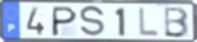1: (114, 6, 127, 38)
4: (25, 6, 47, 37)
B: (163, 6, 191, 39)
L: (137, 6, 161, 38)
P: (50, 6, 79, 38)
S: (79, 5, 107, 39)
